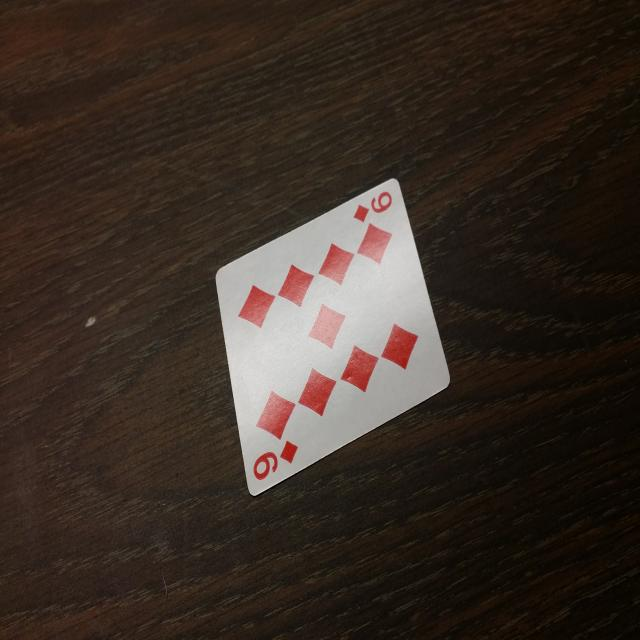9d: (246, 432, 307, 492), (346, 187, 401, 236)
